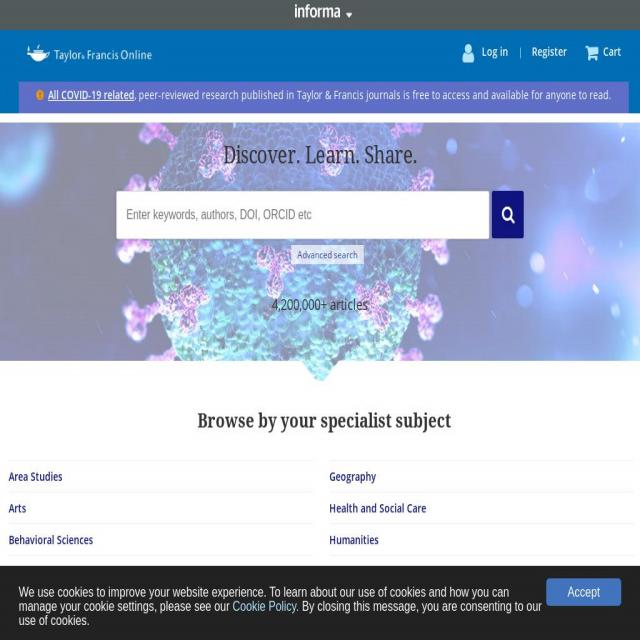login-option: (458, 38, 514, 68)
navigation-links: (4, 445, 432, 567)
search: (114, 187, 528, 240)
sign-up-option: (528, 42, 568, 62)
